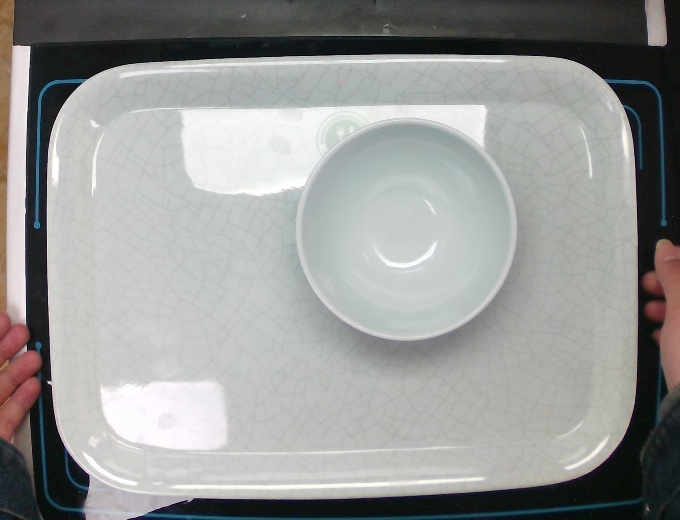JYsf-Fan_Wan: (292, 115, 518, 342)
